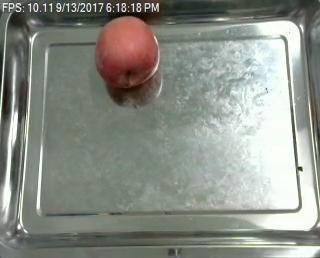apple: (94, 15, 159, 88)
